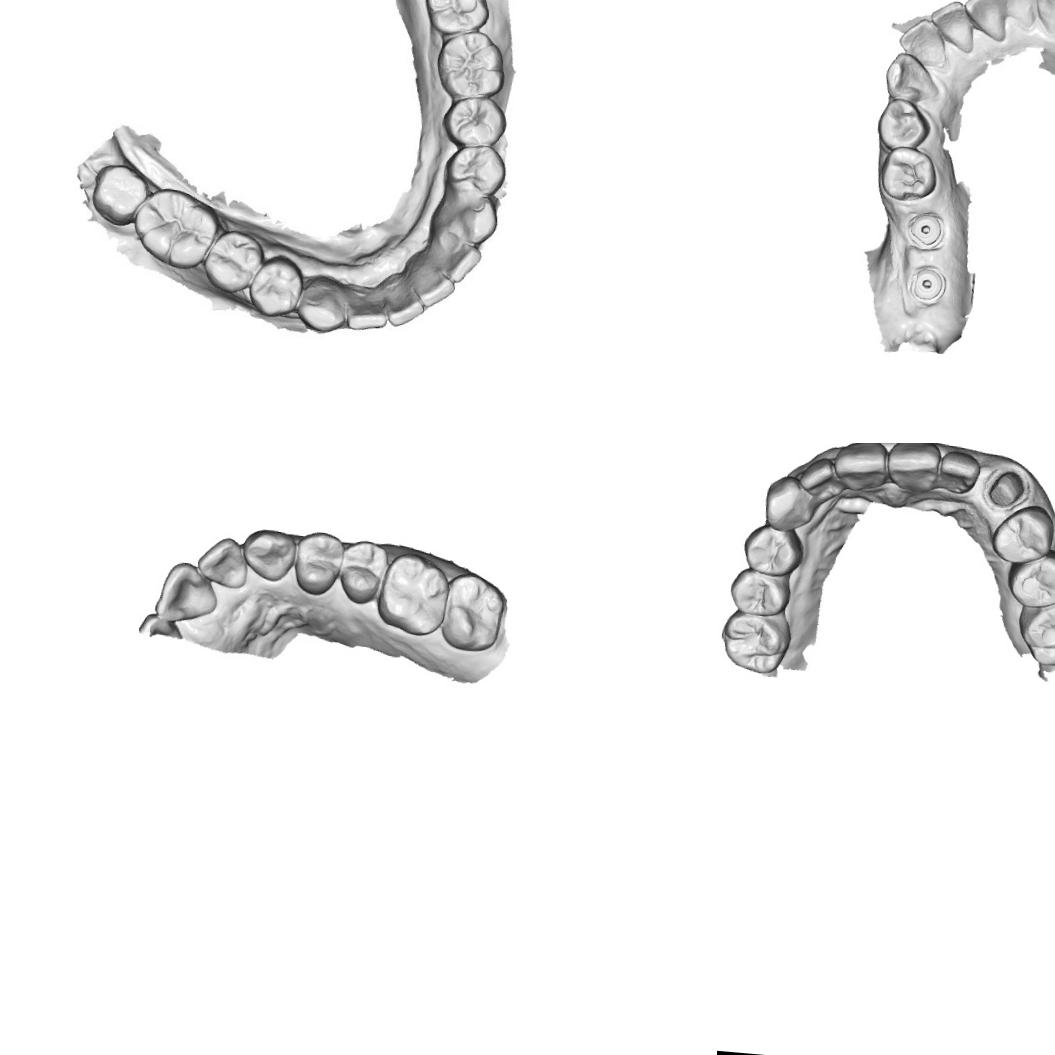canine: (238, 524, 299, 586), (441, 190, 504, 249), (882, 49, 945, 106), (761, 471, 817, 534), (297, 271, 348, 338), (1030, 0, 1055, 40)
crown: (980, 462, 1032, 512)
implant: (906, 262, 949, 306), (905, 209, 948, 246)
incisor: (151, 557, 221, 626), (192, 532, 252, 591), (421, 228, 484, 284), (830, 443, 891, 493), (922, 0, 979, 52), (885, 443, 941, 494), (896, 14, 946, 63), (957, 0, 1010, 45), (936, 447, 982, 496), (797, 454, 844, 501), (345, 288, 388, 339), (407, 259, 452, 307), (384, 276, 426, 327), (991, 0, 1040, 31)
molar: (126, 184, 220, 271), (371, 548, 452, 639), (438, 568, 510, 655), (432, 27, 511, 102), (720, 602, 794, 676), (88, 161, 148, 222), (1013, 586, 1055, 670), (1004, 544, 1055, 610), (424, 0, 491, 40)
premolar: (988, 500, 1055, 566), (440, 94, 512, 152), (335, 537, 392, 608), (290, 528, 346, 600), (876, 143, 940, 204), (740, 520, 806, 578), (726, 564, 794, 618), (872, 94, 932, 154), (244, 256, 302, 314), (446, 142, 506, 192), (206, 232, 260, 286)
